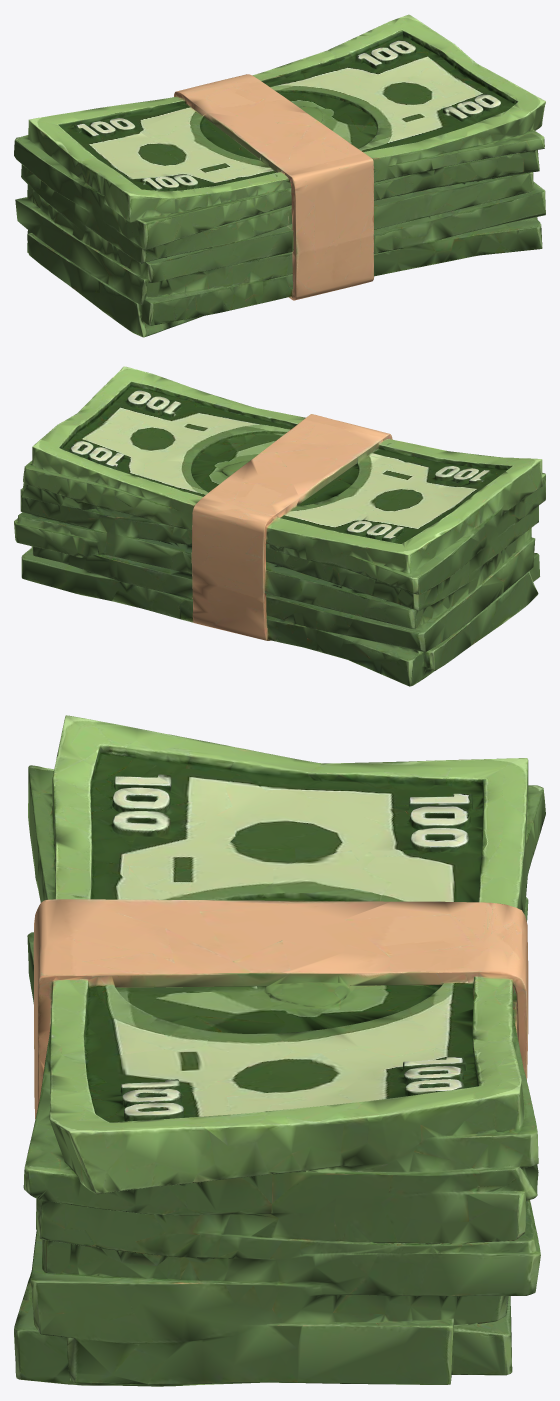
Rendered from cash.glb.
3 renders of one model, top to bottom at view 1: azimuth 30°, elevation 25°; view 2: azimuth 150°, elevation 25°; view 3: azimuth 270°, elevation 25°, orthographic. The views are drawn at different scales.
Size of the model in its own units: 1.9 by 0.6307 by 1.06.
Materials: 1 (1 with a texture image).
